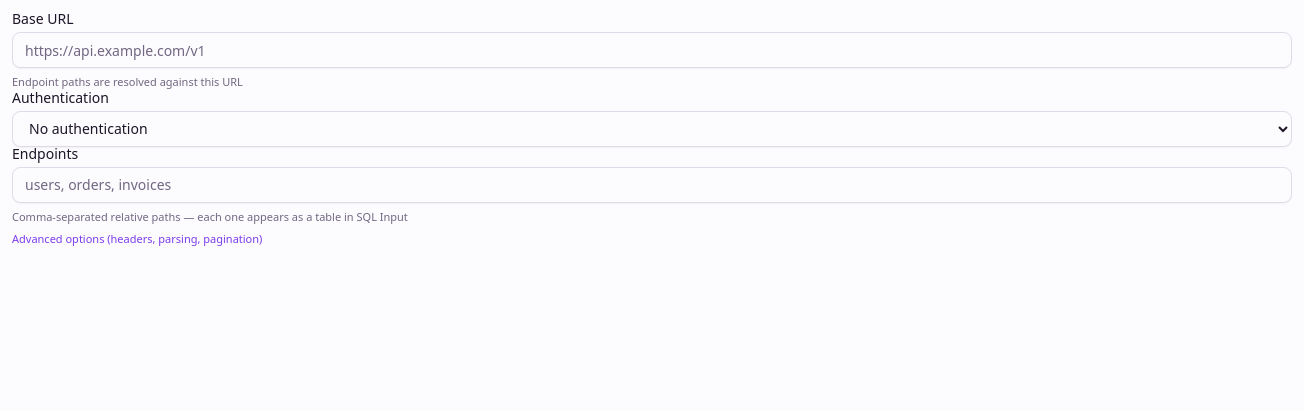
ApiFields › does not show the secret field until an auth method other than none is picked
The width and height of the screenshot is (1304, 411).
Expected: the text "Secret" is not shown
Select "Bearer token" in the dropdown at [652, 128], box [12,110,1292,146]
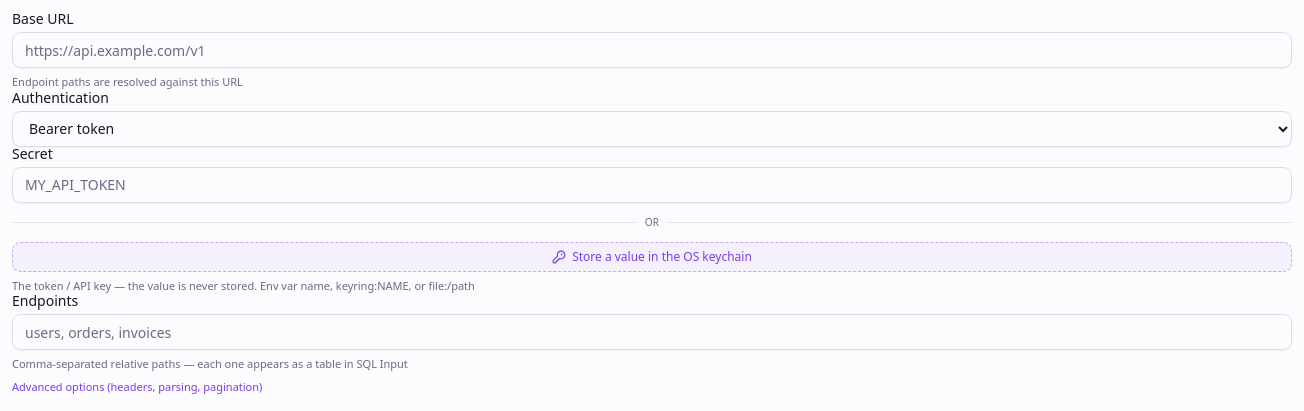
Expected: the text "Secret" is shown, [12,144,53,162]
